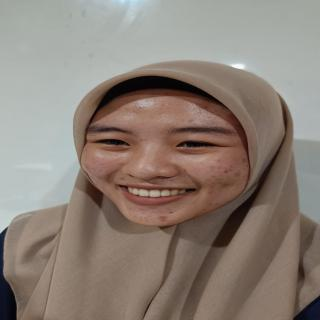Senang: (81, 88, 260, 230)
